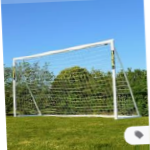goals: (9, 37, 143, 122)
